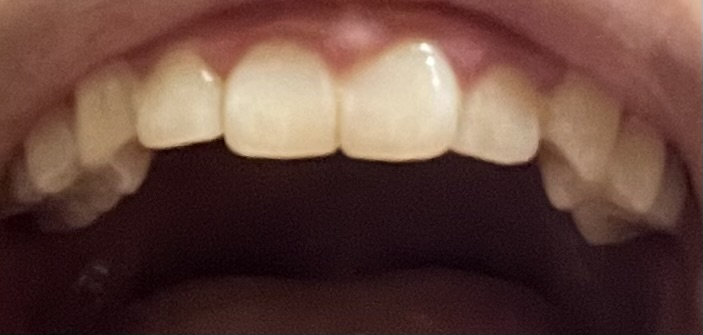teeth: (345, 46, 460, 154), (226, 43, 337, 154), (538, 70, 620, 207), (21, 101, 118, 210), (580, 119, 663, 245), (75, 62, 150, 192), (456, 65, 537, 160), (139, 51, 220, 145), (5, 150, 97, 232)
